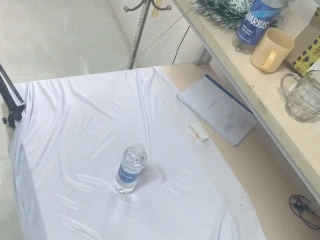bottle: (250, 1, 319, 73), (232, 1, 288, 55), (282, 58, 320, 123), (113, 142, 148, 195)
cup: (250, 27, 295, 74)
